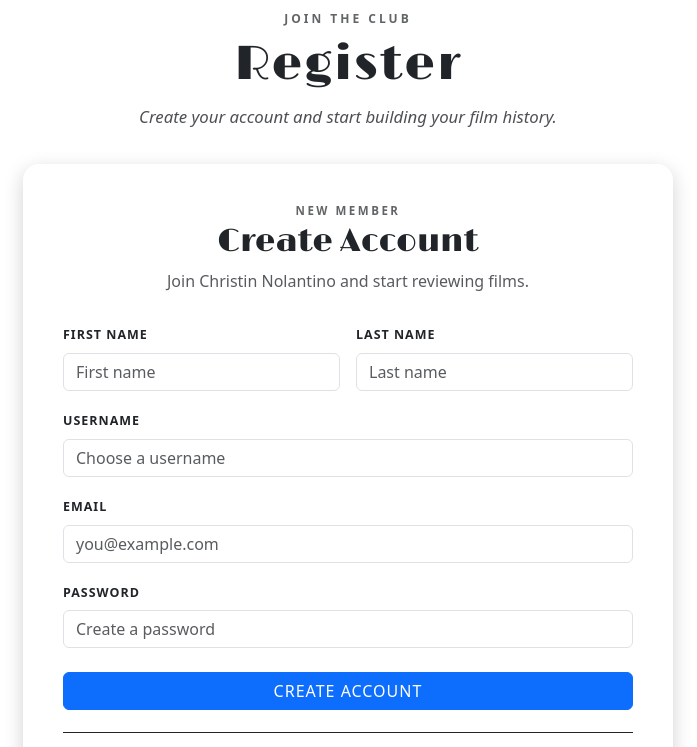
Test: Register Page › registers a new user successfully
This screenshot has width=697, height=747.
Type "John" into the field labelled "First Name" at (202, 372), box [63,353,340,391]
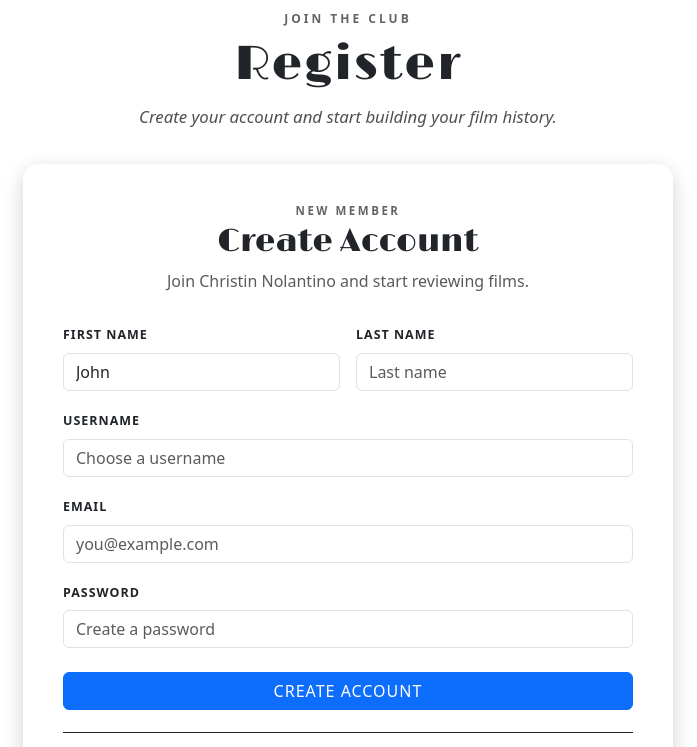
Type "Doe" into the field labelled "Last Name" at (494, 372), box [356,353,633,391]
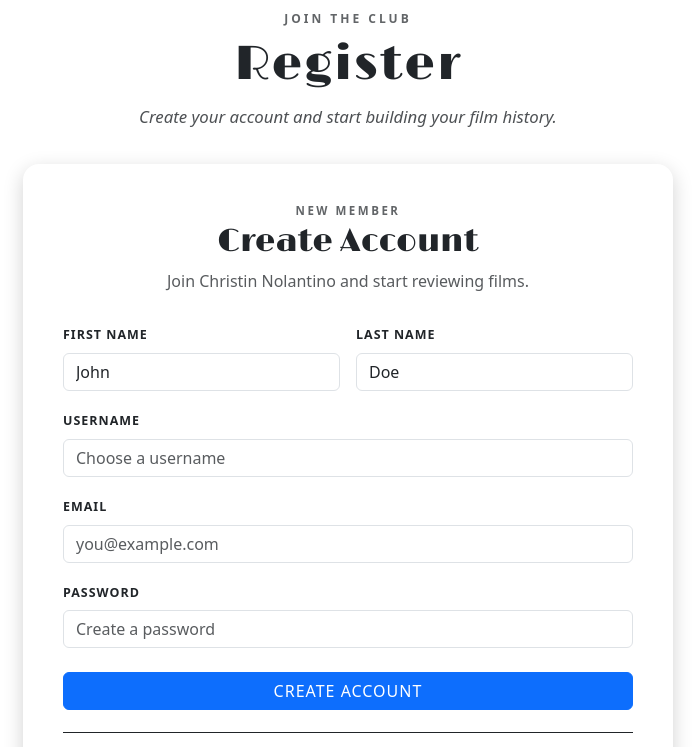
Type "johndoe" into the field labelled "Username" at (348, 458), box [63,439,633,477]
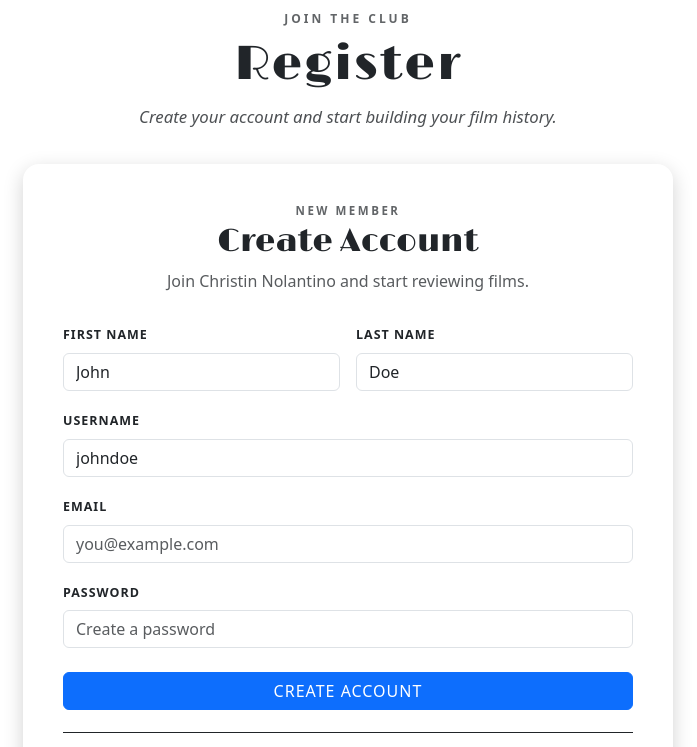
Type "john@example.com" into the field labelled "Email" at (348, 544), box [63,525,633,563]
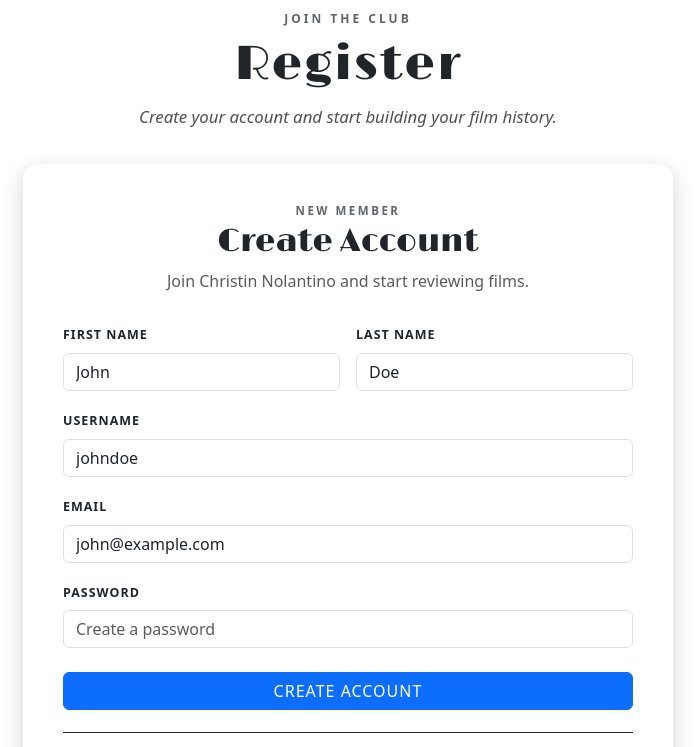
Type "password123" into the password field labelled "Password" at (348, 629), box [63,610,633,648]
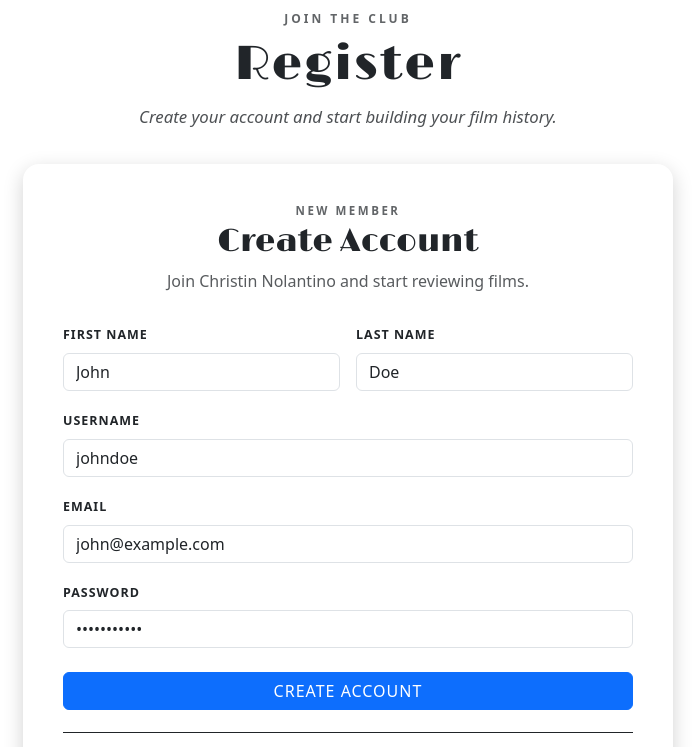
Click the button "Create Account" at (348, 691), box [63,672,633,710]
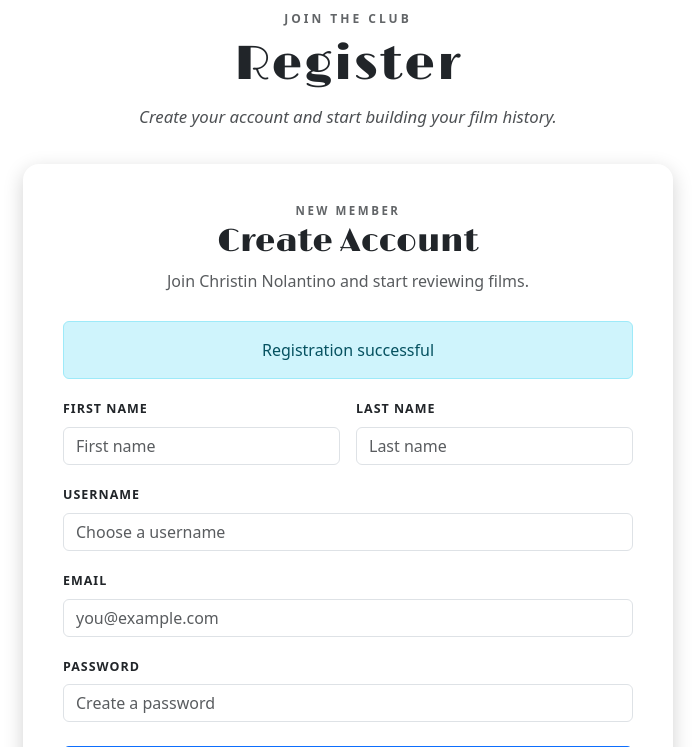
Result: the text "Registration successful" is shown at [63,321,633,379]
Result: the field labelled "First Name" is empty at [63,427,340,465]
Result: the field labelled "Last Name" is empty at [356,427,633,465]
